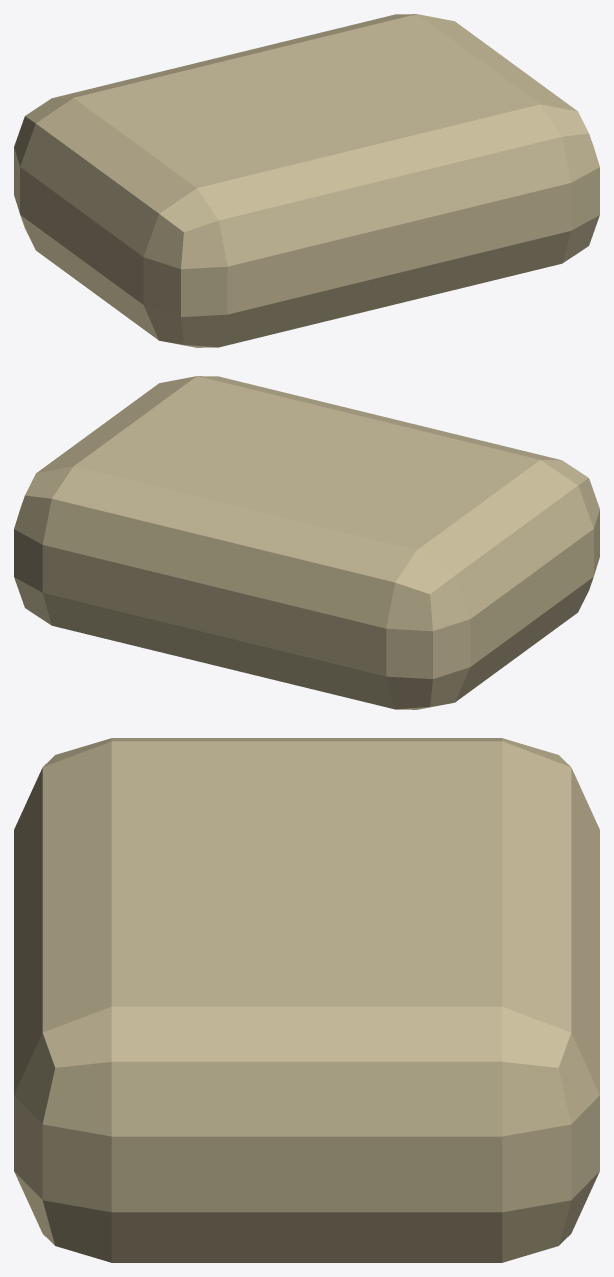
The model's file is sandbag.glb.
3 views of the same model, one above another, from view 1: azimuth 30°, elevation 25°; view 2: azimuth 150°, elevation 25°; view 3: azimuth 270°, elevation 25° (orthographic). The views are drawn at different scales.
Parts seen in each view (by area): view 1: sand canvas; view 2: sand canvas; view 3: sand canvas.
Boxes of the visible parts, box(x1,y1,x2,y2) form: sand canvas: box(14, 14, 599, 347); sand canvas: box(14, 376, 599, 709); sand canvas: box(14, 738, 599, 1262).
Size of the model in its own units: 0.059 by 0.02 by 0.042.
